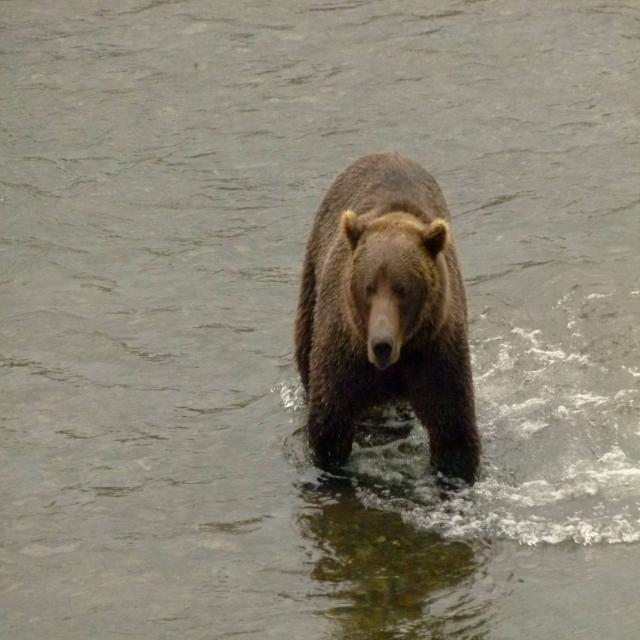bear face: (298, 152, 478, 467)
